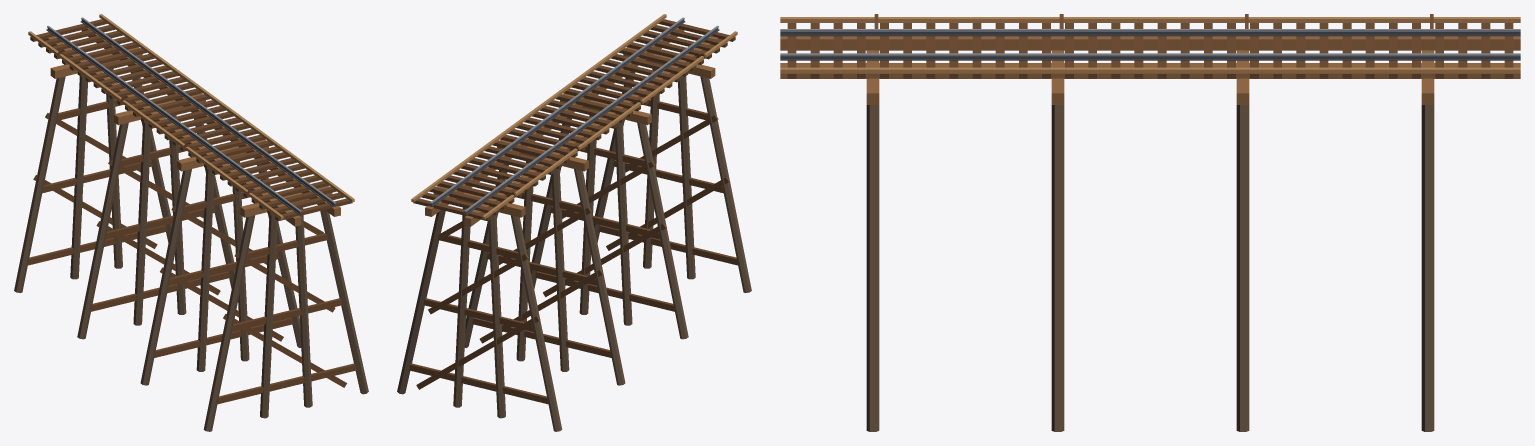
The model's file is SM_Track_Trestle_20m.fbx.
3 views of the same model, side by side, from view 1: azimuth 30°, elevation 25°; view 2: azimuth 150°, elevation 25°; view 3: azimuth 270°, elevation 25° (orthographic). The views are drawn at different scales.
Visible parts, largest first — view 1: Track_Trestle_20m; view 2: Track_Trestle_20m; view 3: Track_Trestle_20m.
Part boxes in pixels (box(x1,y1,x2,y2)): Track_Trestle_20m: box(14, 14, 368, 431); Track_Trestle_20m: box(397, 14, 751, 431); Track_Trestle_20m: box(780, 14, 1520, 431).
Size of the model in its own units: 745 by 2000 by 1003.
